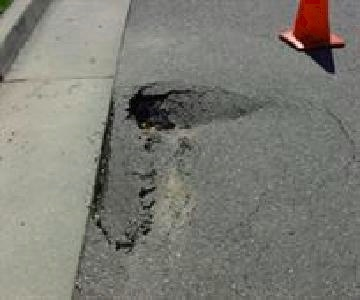pothole: (85, 84, 158, 254), (123, 84, 262, 132)
